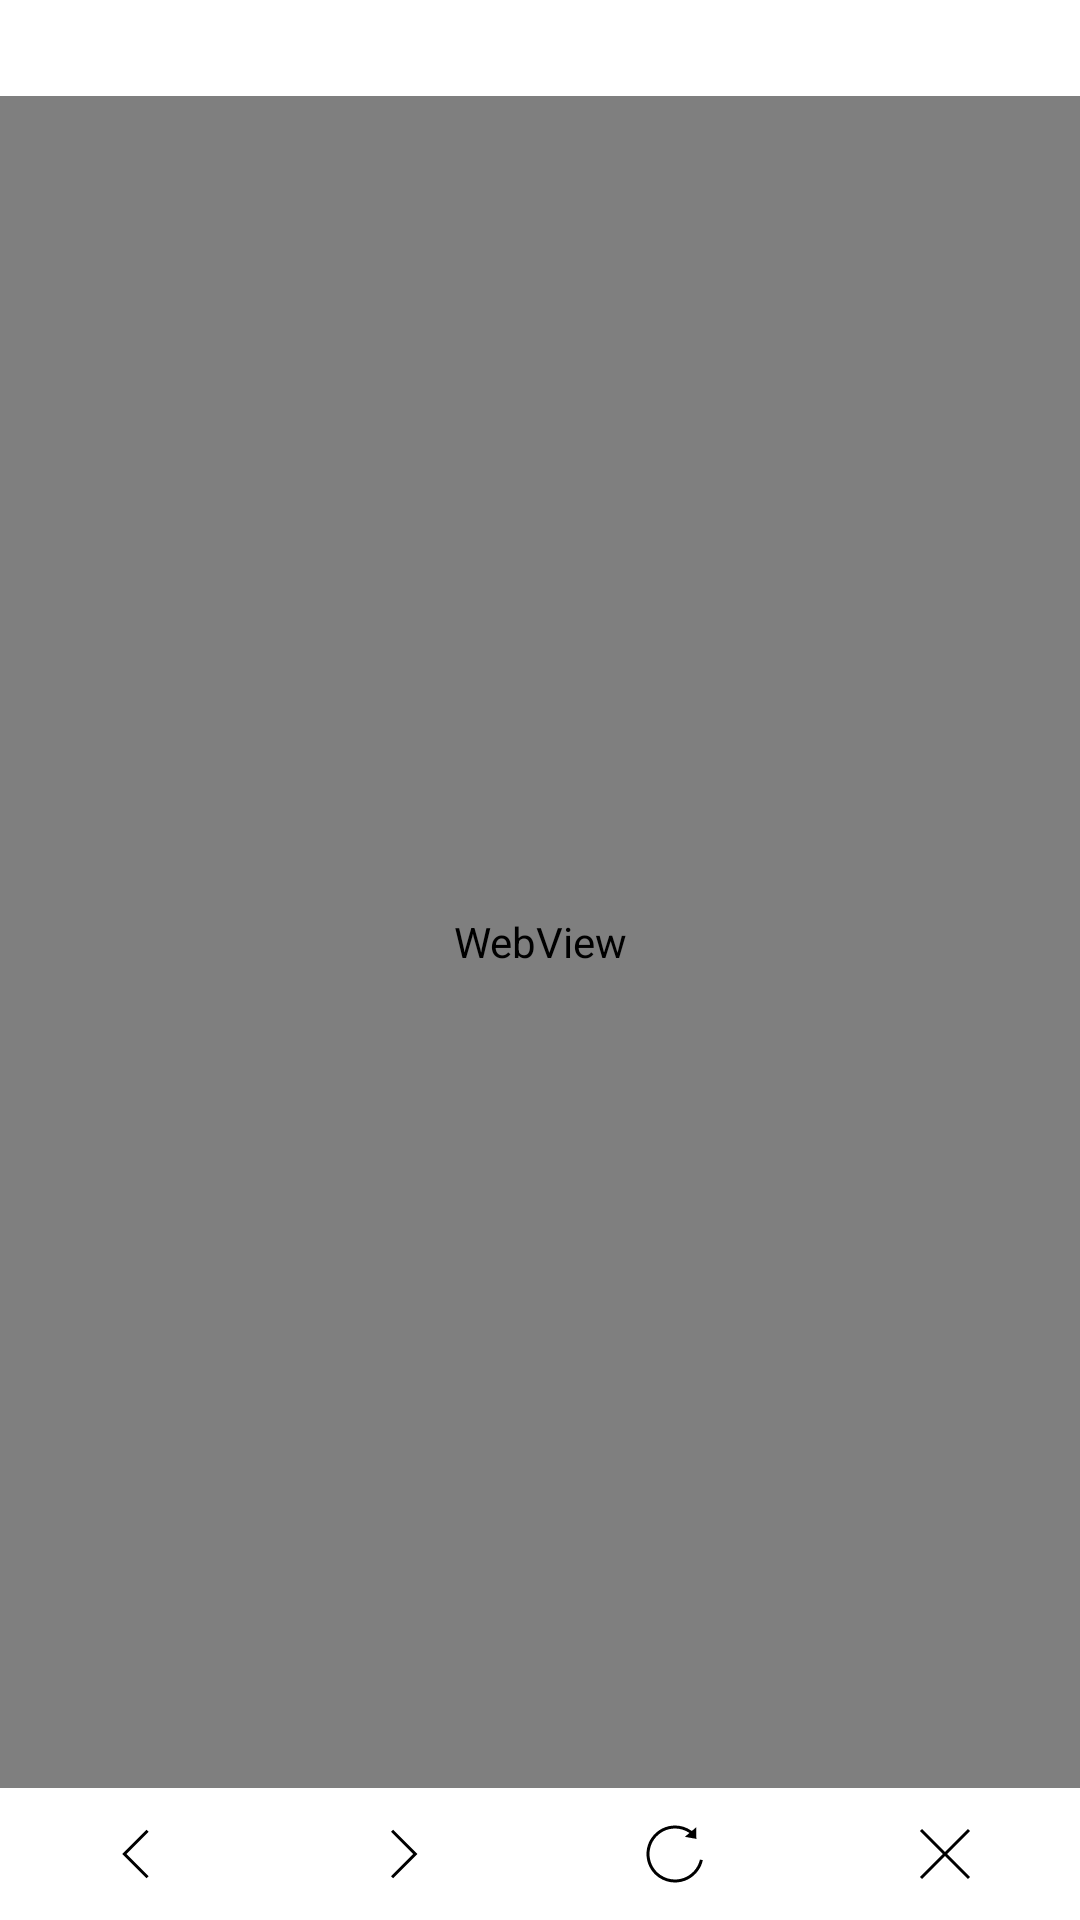

Locate icon controls on the screen. Image size 1080×1920, boxes as (x1, y1, x2, y2).
arrow left: (122, 1830, 149, 1878)
arrow right: (391, 1830, 417, 1878)
close: (920, 1829, 970, 1879)
refresh: (646, 1825, 703, 1883)
